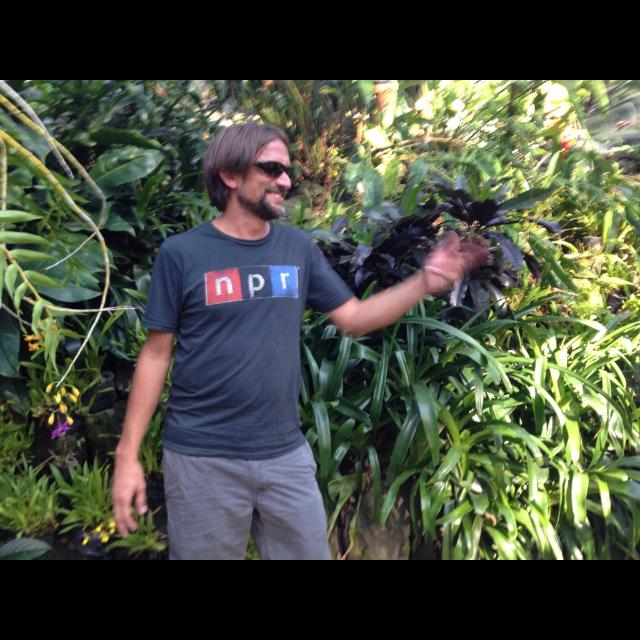Flower: (50, 418, 74, 438)
